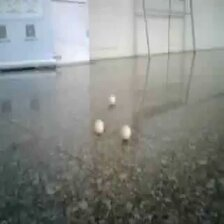w: (119, 125, 132, 140), (92, 118, 104, 132), (107, 94, 116, 104)
